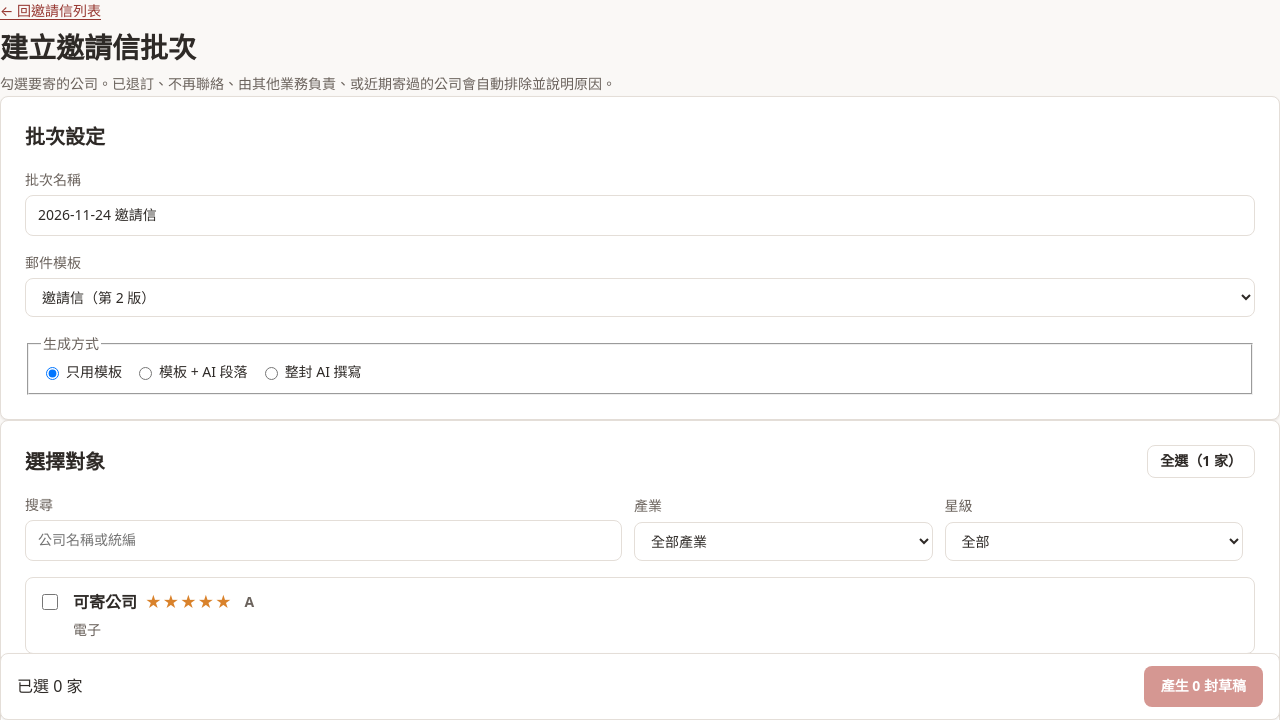
M2-03d 建立批次 › test_f_mail_1_create_campaign_with_selected_targets：勾選對象後建立，被排除的顯示原因
The image size is (1280, 720).
expect the checkbox named "退訂公司（不能選）" is disabled: met, box left=42, top=680, right=58, bottom=696
expect the radio button labelled "整封 AI 撰寫" is enabled: met, box left=265, top=367, right=278, bottom=380
Click the checkbox labelled "可寄公司 ★★★★★ A 電子".
click(50, 602)  # box left=42, top=594, right=58, bottom=610
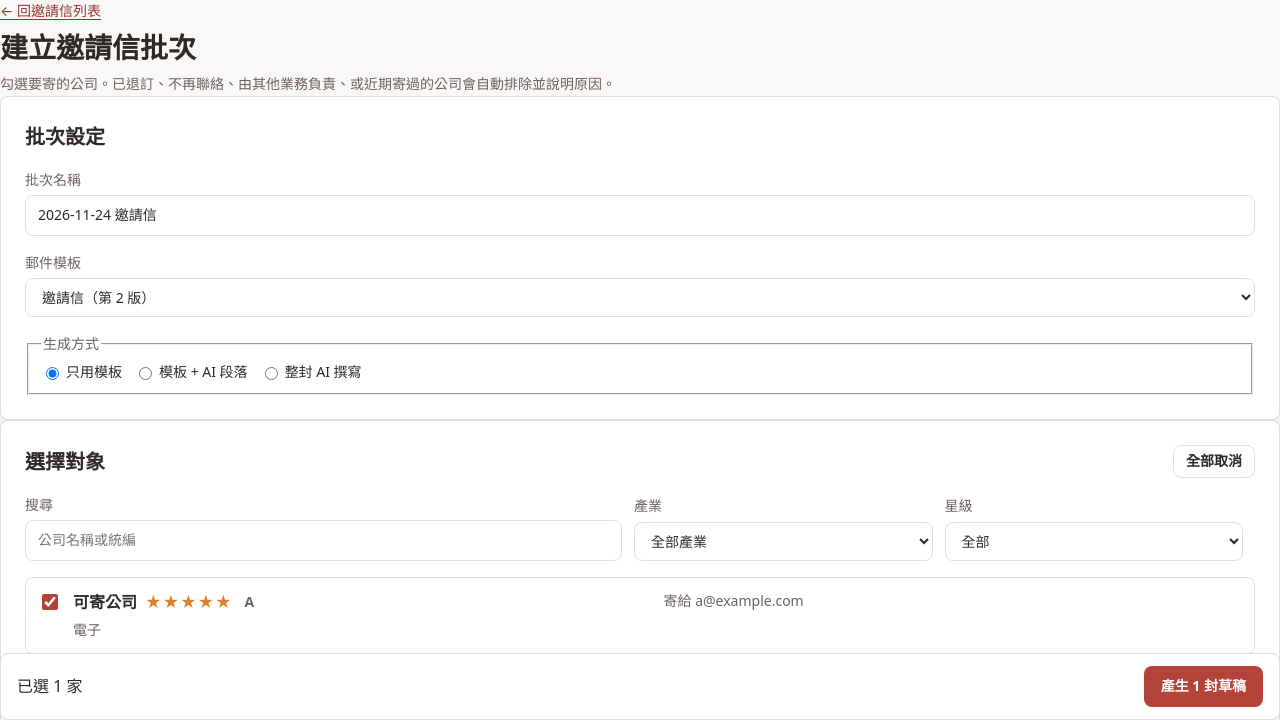
Click the button "產生 1 封草稿".
click(1203, 687)  # box left=1144, top=667, right=1263, bottom=707
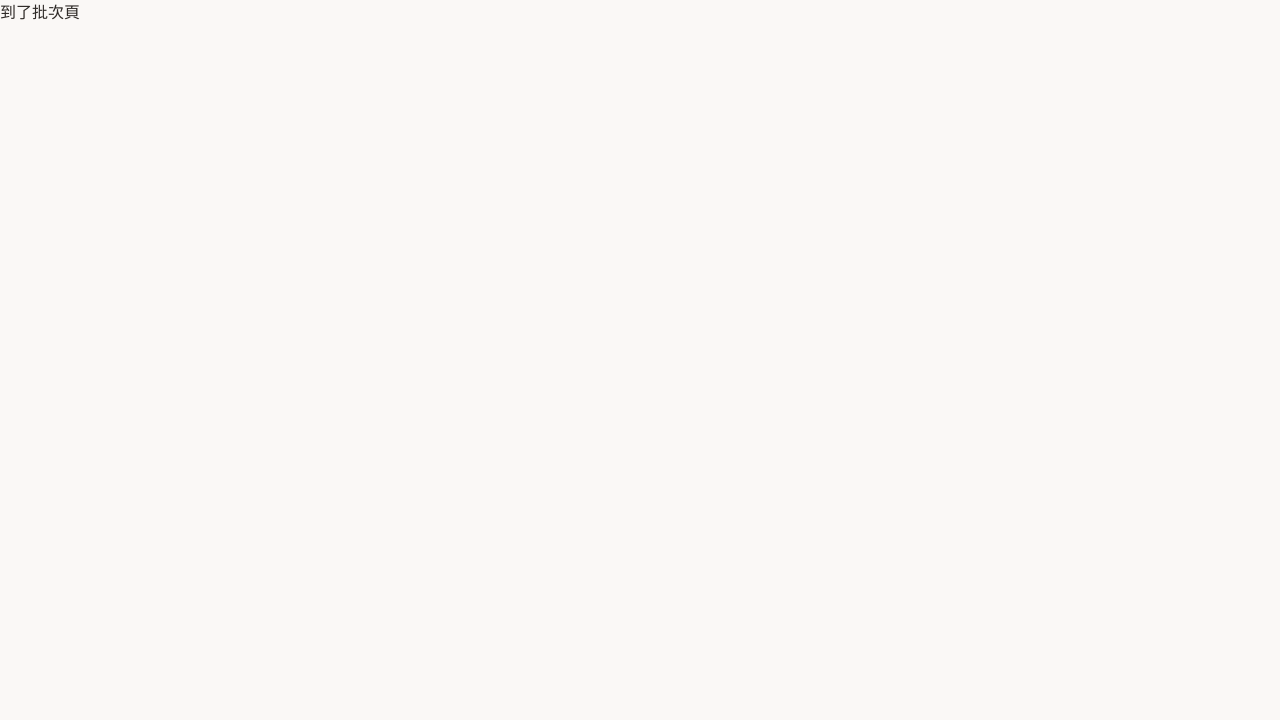
expect the text "到了批次頁" is shown: met, box left=0, top=1, right=80, bottom=23
